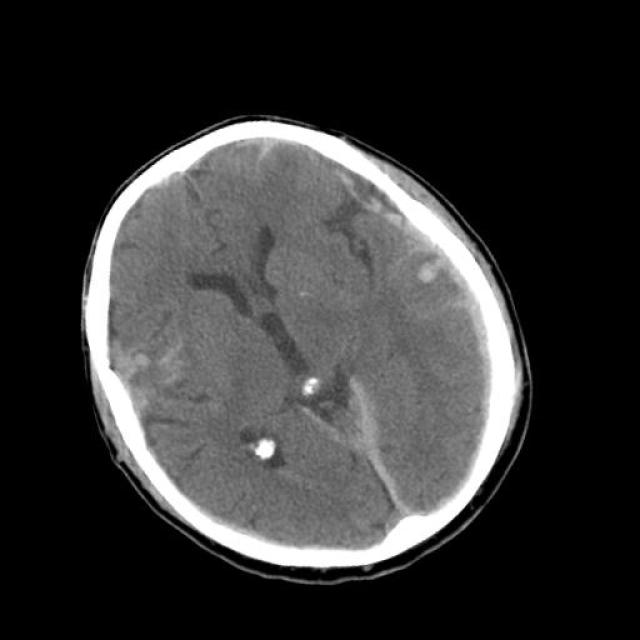Intraparenchymal: (95, 318, 219, 434)
Subarachnoid: (231, 131, 284, 187)
Subdural: (364, 148, 604, 482), (277, 335, 475, 570)
